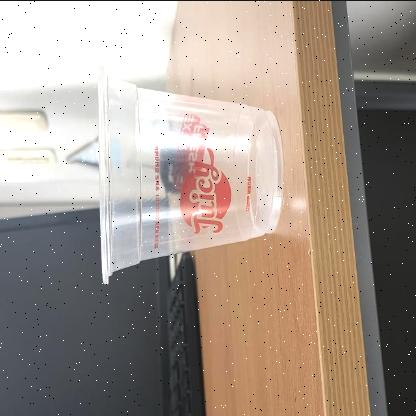Others: (98, 57, 282, 287)
